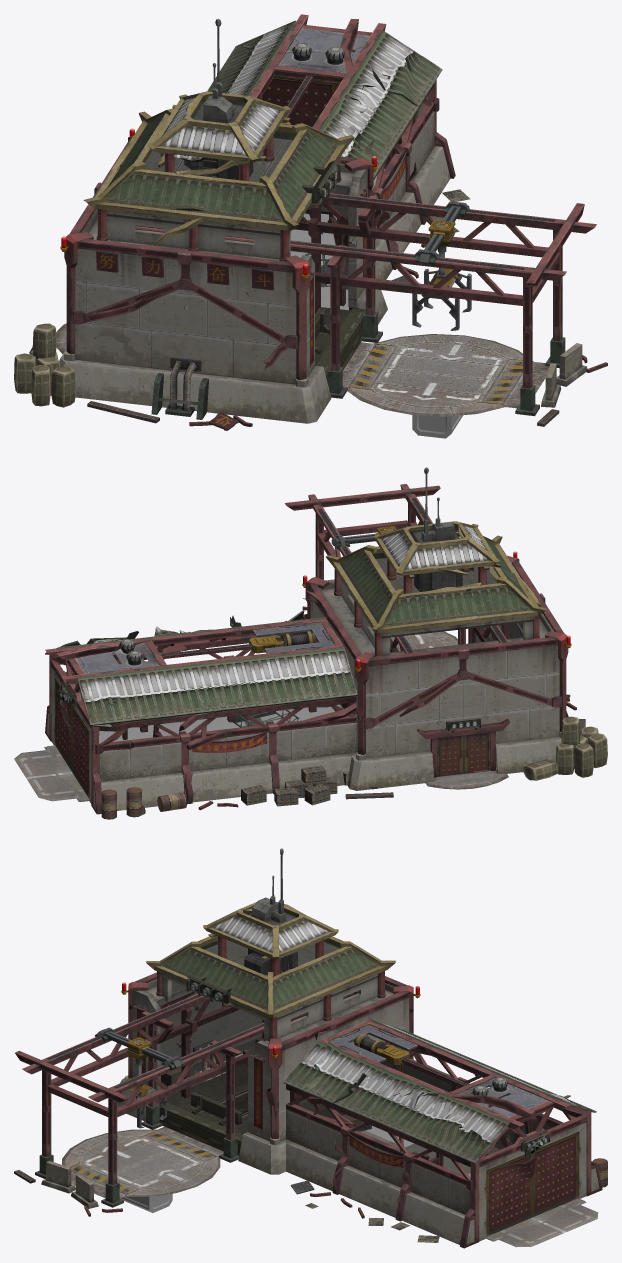
Rendered from as_supplycenter.fbx.
The picture shows the model from 3 angles, top to bottom: view 1: azimuth 30°, elevation 25°; view 2: azimuth 150°, elevation 25°; view 3: azimuth 270°, elevation 25°; orthographic projection. The views are drawn at different scales.
Visible parts, largest first — view 1: AS_SupplyCenter_FactionStructure, AlphaDetail, FactionStructureWire; view 2: AS_SupplyCenter_FactionStructure, AlphaDetail; view 3: AS_SupplyCenter_FactionStructure, FactionStructureWire.
Part boxes in pixels (x1=…): AS_SupplyCenter_FactionStructure: x1=14, y1=14, x2=607, y2=430; AlphaDetail: x1=290, y1=169, x2=384, y2=310; FactionStructureWire: x1=412, y1=415, x2=462, y2=438; AS_SupplyCenter_FactionStructure: x1=14, y1=467, x2=607, y2=819; AlphaDetail: x1=99, y1=704, x2=496, y2=771; AS_SupplyCenter_FactionStructure: x1=14, y1=848, x2=607, y2=1248; FactionStructureWire: x1=120, y1=1193, x2=172, y2=1212.
Bounding box in the file's own units: 759 × 487 × 876.
